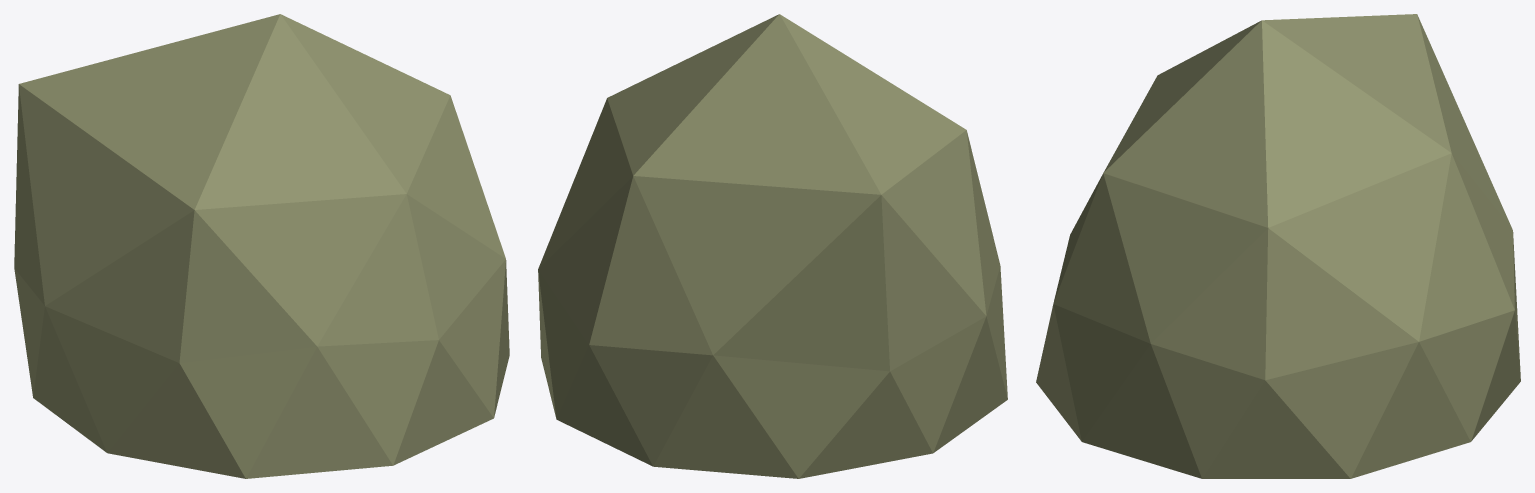
The model's file is камень2.fbx.
3 views of the same model, side by side, from view 1: azimuth 30°, elevation 25°; view 2: azimuth 150°, elevation 25°; view 3: azimuth 270°, elevation 25° (orthographic). The views are drawn at different scales.
Parts seen in each view (by area): view 1: Icosphere; view 2: Icosphere; view 3: Icosphere.
Part boxes in pixels (x1=…): Icosphere: x1=14, y1=14, x2=509, y2=478; Icosphere: x1=538, y1=14, x2=1007, y2=478; Icosphere: x1=1036, y1=14, x2=1520, y2=478.
Size of the model in its own units: 207 by 166 by 202.
